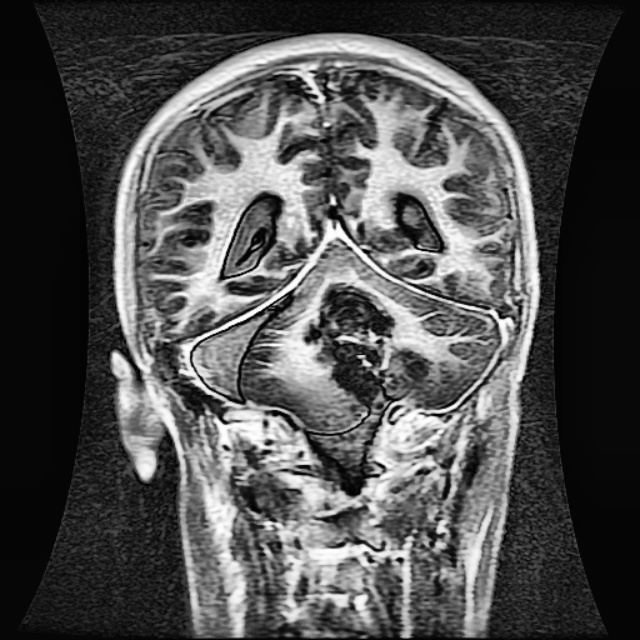Meningioma: (255, 275, 472, 407)
